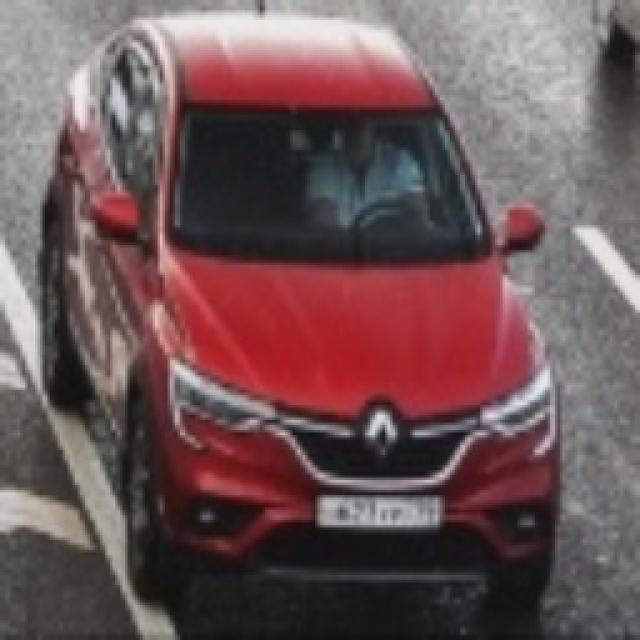windshield: (152, 99, 491, 261)
